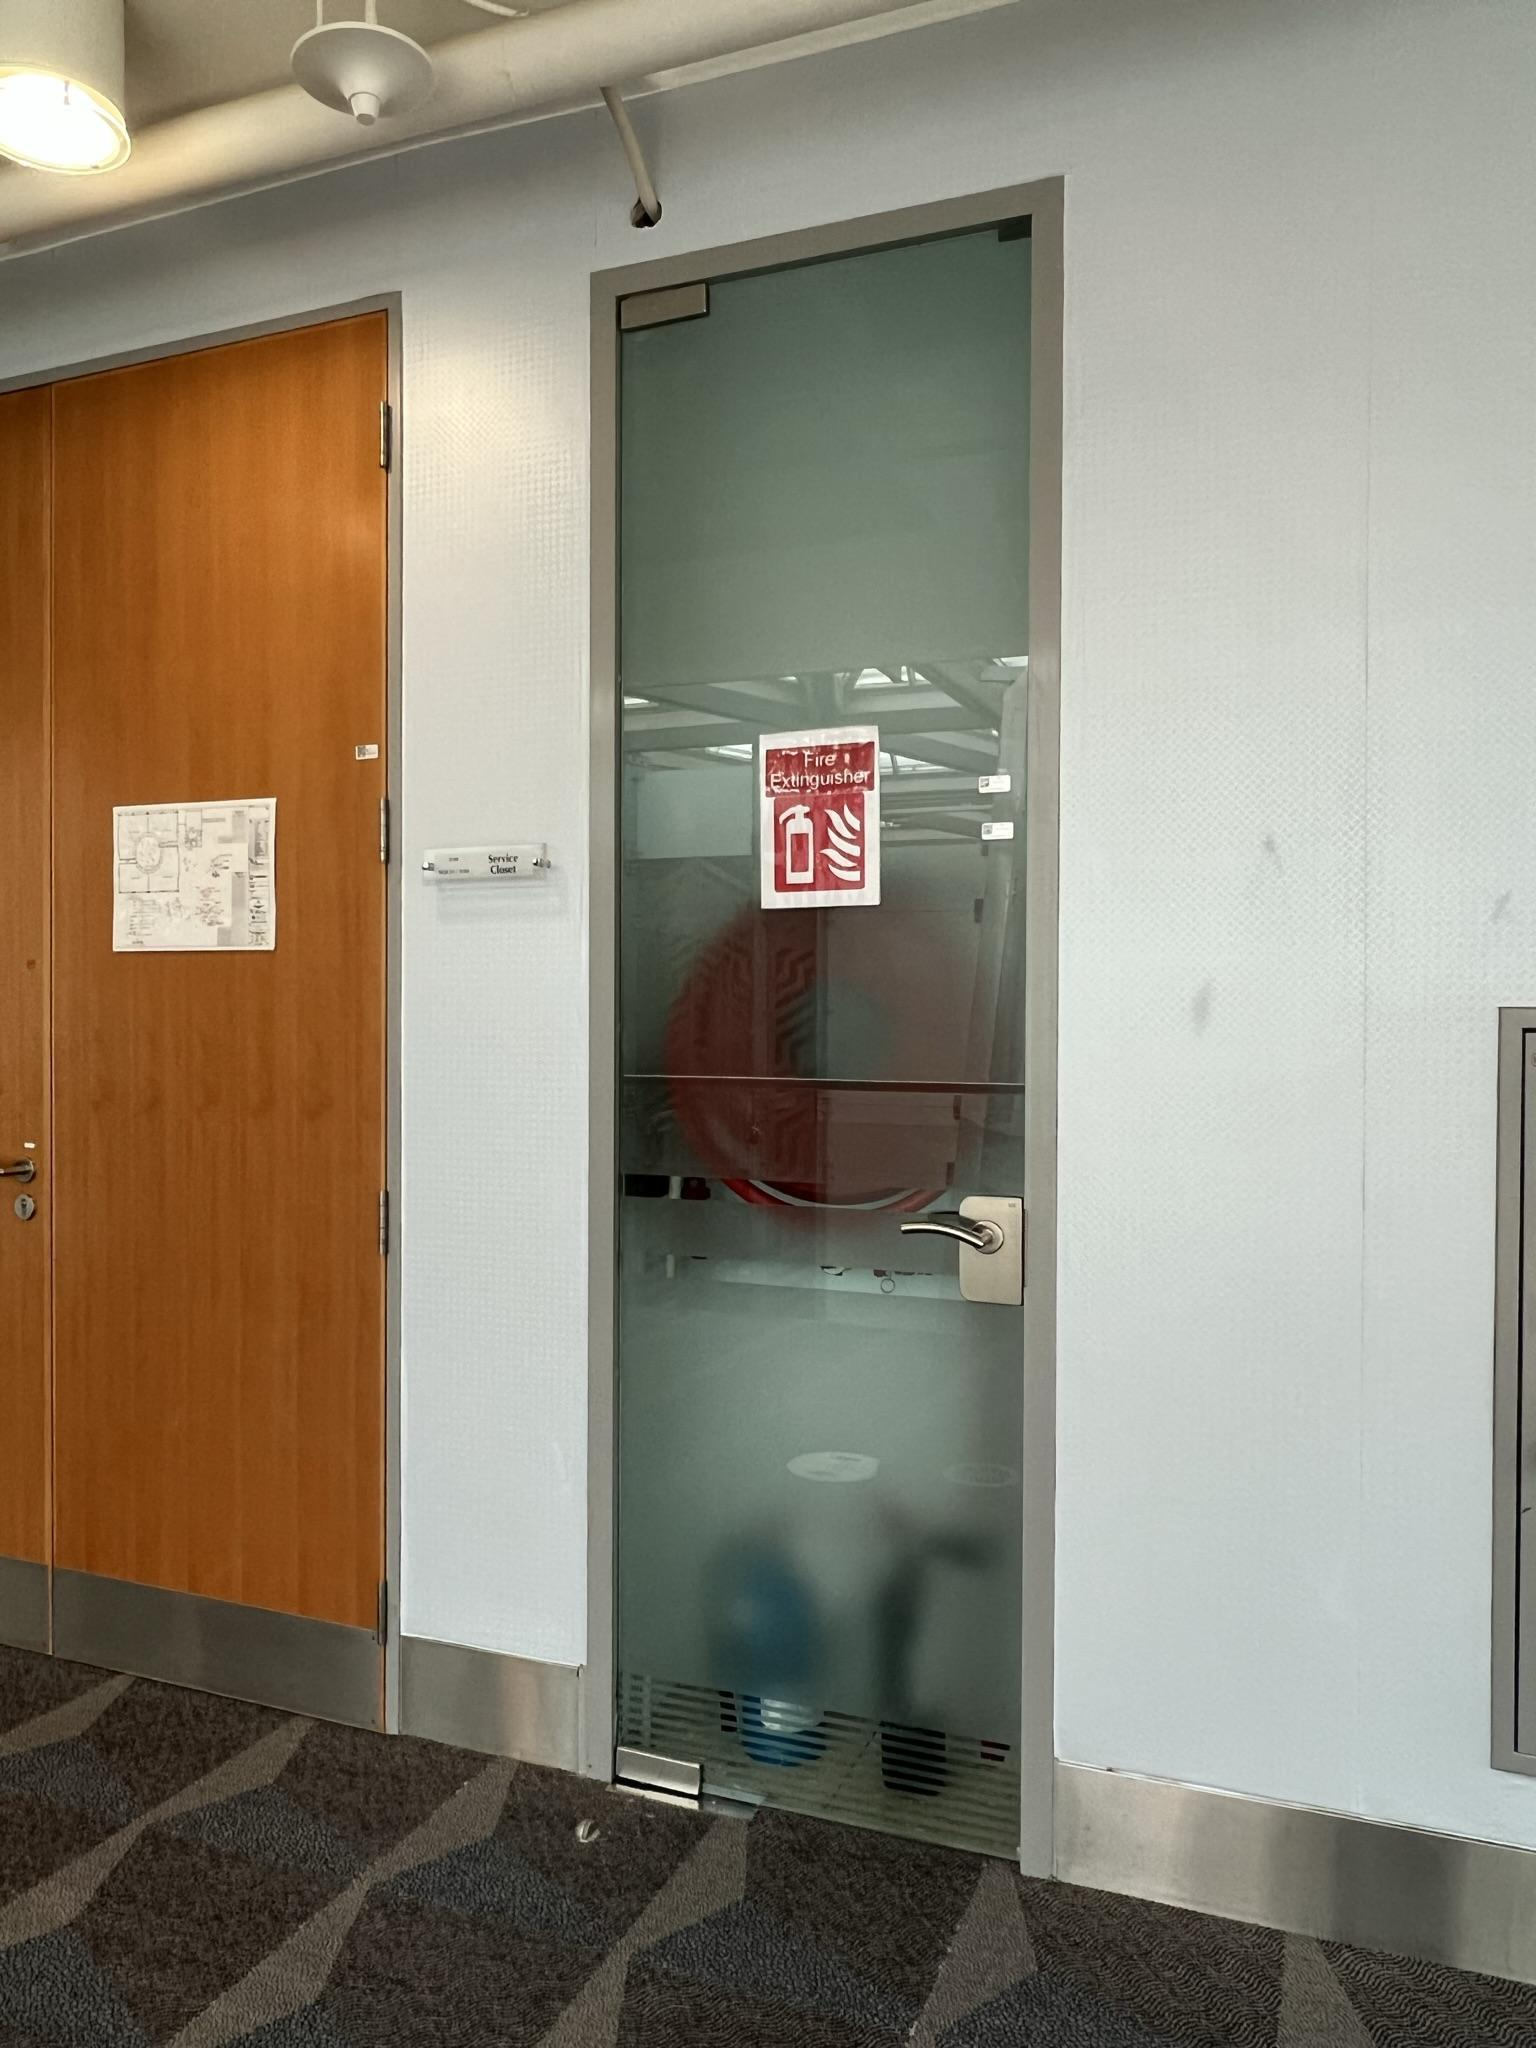door: (597, 237, 1054, 1879), (2, 331, 397, 1717)
handle: (897, 1180, 1029, 1306)
